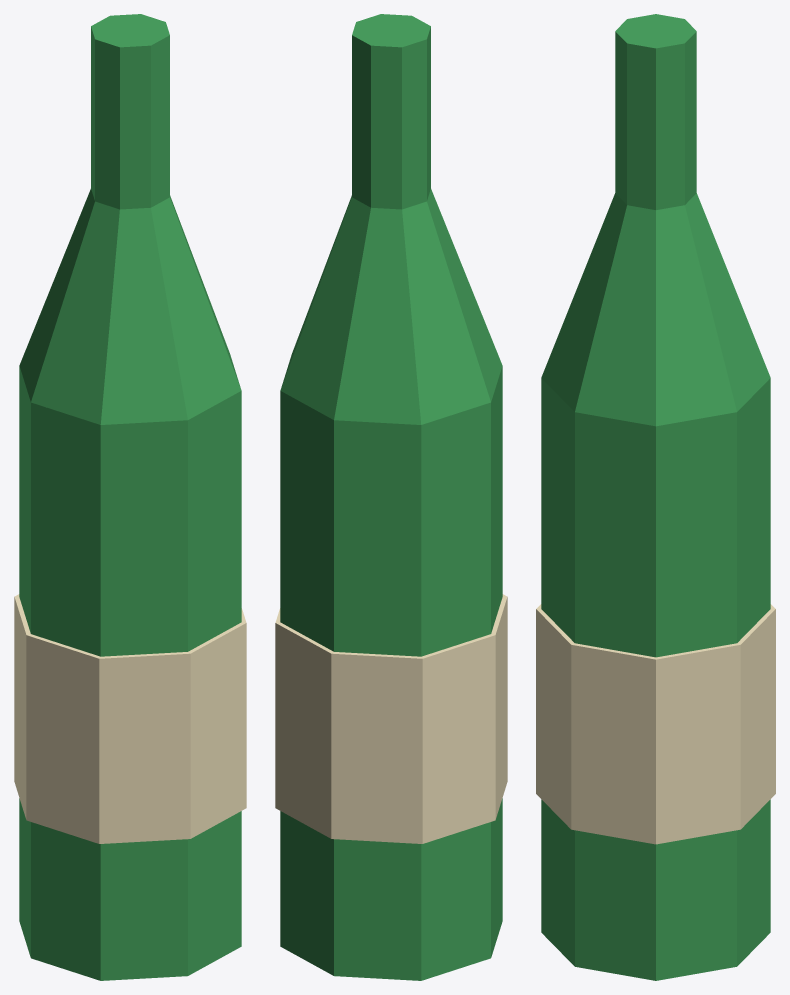
Rendered from Trash_GlassBottle.fbx.
3 renders of one model, left to right at view 1: azimuth 30°, elevation 25°; view 2: azimuth 150°, elevation 25°; view 3: azimuth 270°, elevation 25°, orthographic.
Parts seen in each view (by area): view 1: Trash_GlassBottle; view 2: Trash_GlassBottle; view 3: Trash_GlassBottle.
Boxes of the visible parts, left/top/right/bottom form: Trash_GlassBottle: left=14, top=14, right=246, bottom=980; Trash_GlassBottle: left=275, top=14, right=507, bottom=980; Trash_GlassBottle: left=536, top=14, right=775, bottom=980.
Size of the model in its own units: 0.094 by 0.39 by 0.094.
